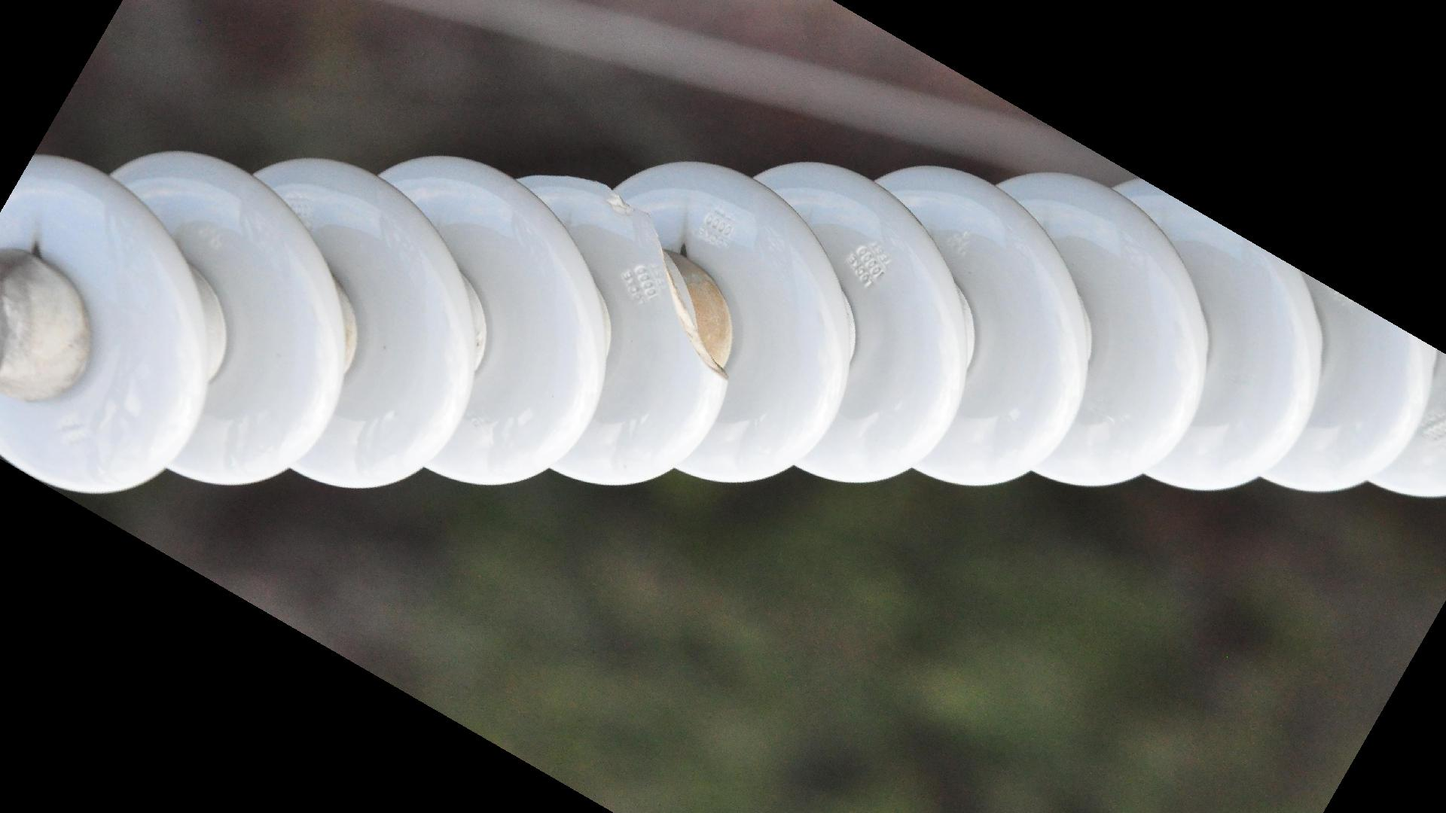insulator: (1, 139, 1446, 513)
insulator_breakage: (597, 177, 742, 402)
